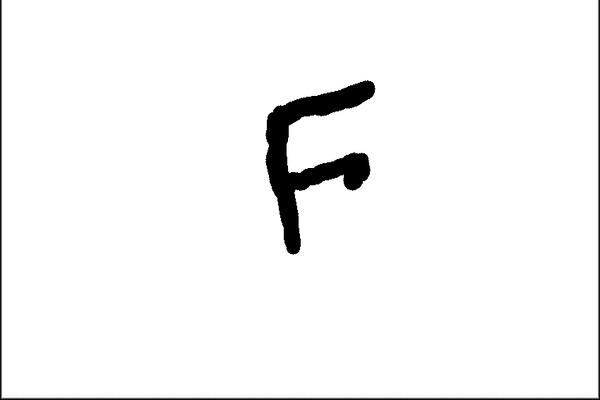F: (258, 77, 379, 258)
